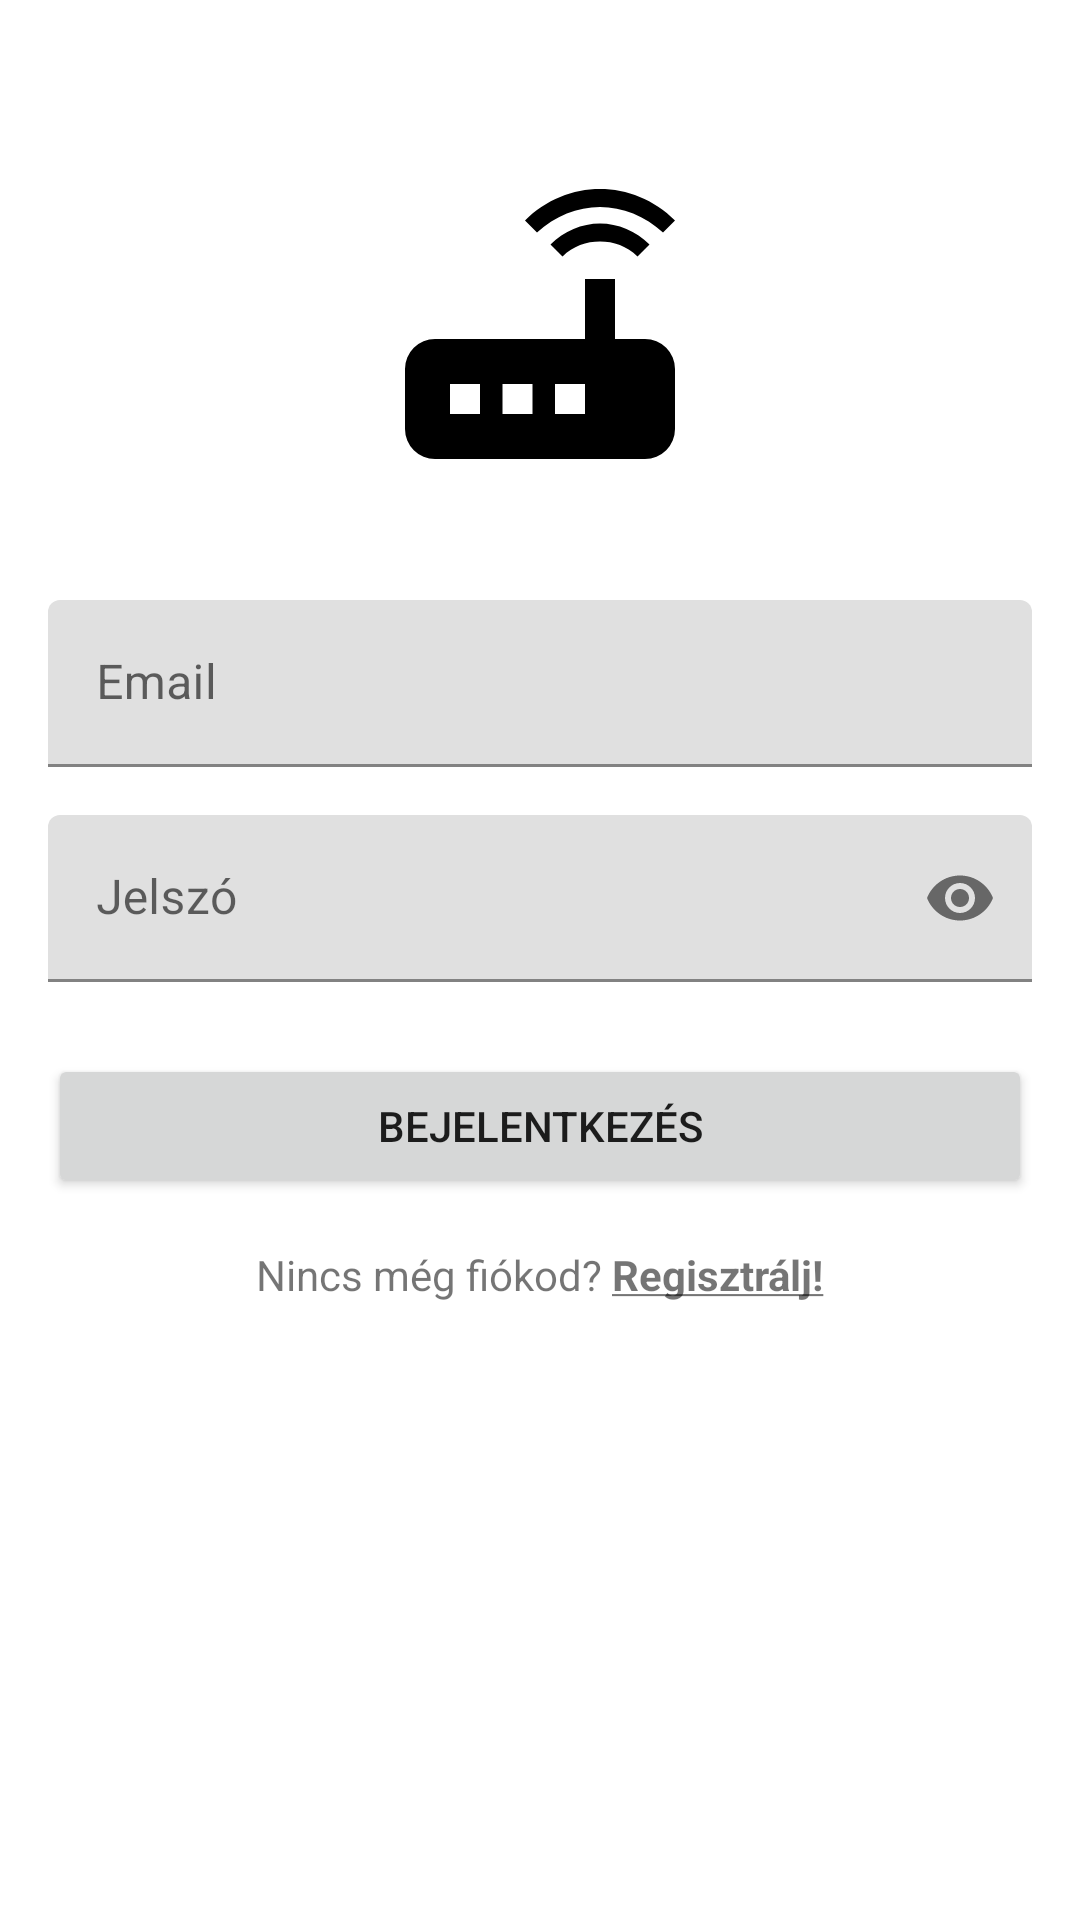

Named icons in this screenshot (1080px x 1920px) and their bounding boxes, (x1, y1, x2, y2):
router: (405, 189, 675, 459)
